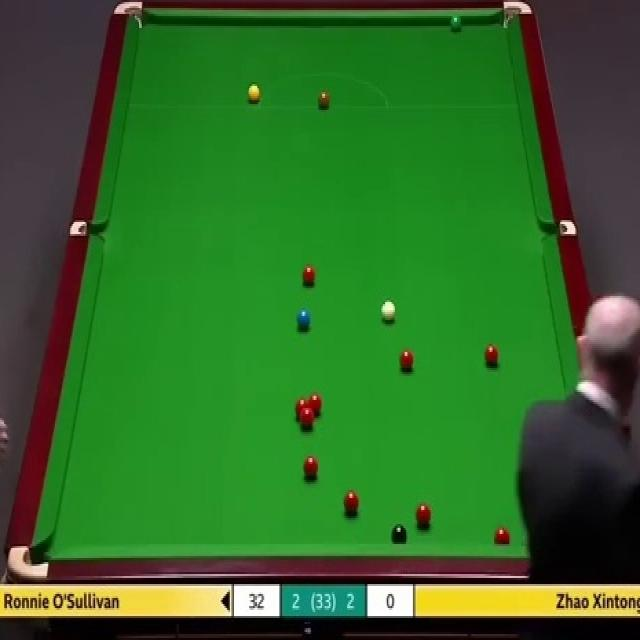black-ball: (391, 523, 406, 543)
blue-ball: (295, 308, 311, 331)
brown-ball: (317, 88, 331, 111)
green-ball: (450, 14, 463, 30)
pink-ball: (302, 261, 317, 288)
red-ball: (343, 489, 359, 517), (415, 502, 432, 528), (304, 455, 319, 480), (400, 348, 414, 374), (495, 526, 511, 546), (485, 344, 499, 366), (301, 408, 314, 430), (309, 393, 322, 415), (296, 399, 308, 412)
white-ball: (379, 298, 396, 324)
yellow-ball: (247, 83, 260, 103)
